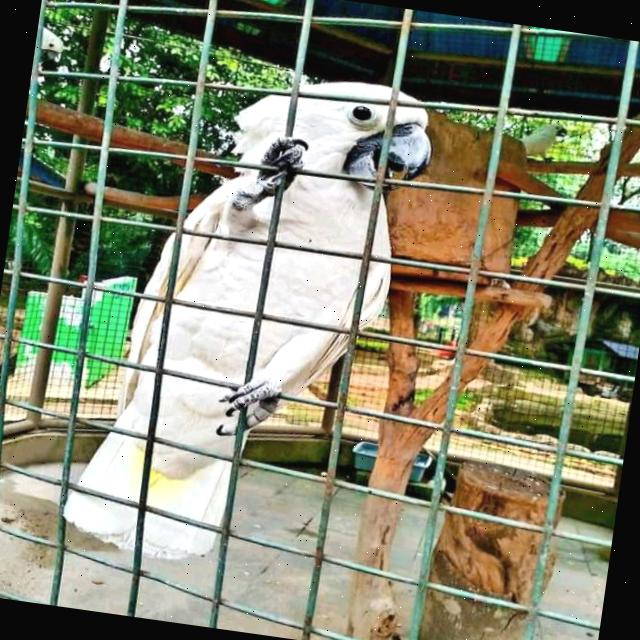Kakatua Putih: (29, 26, 469, 604)
